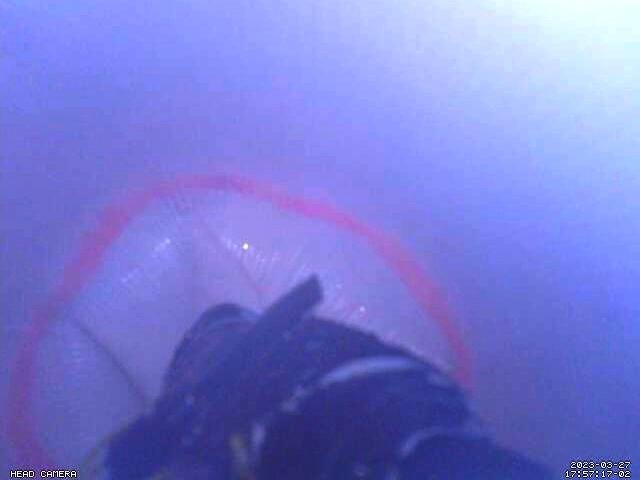head: (3, 174, 476, 480)
